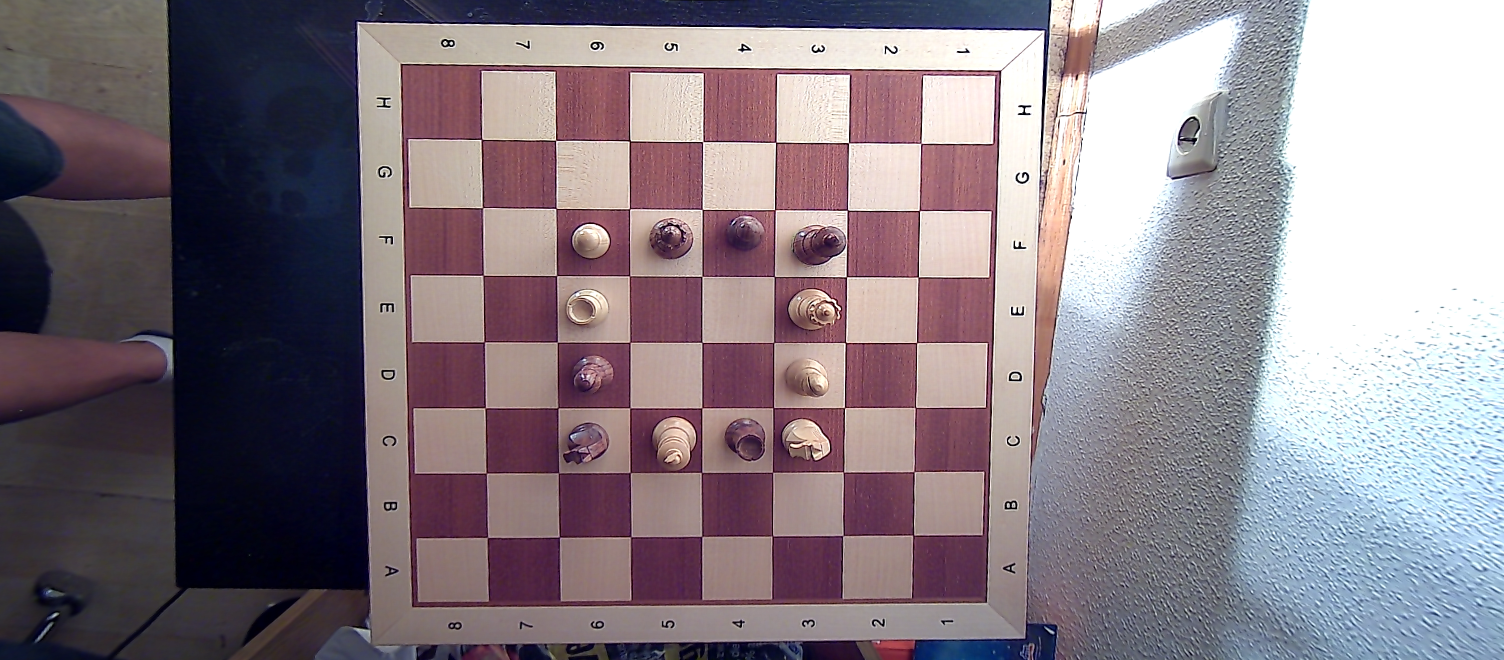black-bishop: (568, 351, 618, 395)
black-king: (789, 220, 847, 270)
black-knight: (560, 419, 615, 470)
black-pawn: (720, 212, 766, 254)
black-queen: (646, 215, 694, 262)
black-rook: (720, 413, 769, 466)
white-bishop: (783, 353, 833, 401)
white-king: (646, 413, 699, 472)
white-knight: (777, 416, 832, 466)
white-pawn: (569, 221, 612, 262)
white-queen: (786, 284, 842, 333)
white-rook: (562, 284, 617, 334)
